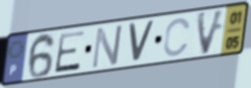6: (26, 31, 58, 80)
C: (162, 16, 193, 59)
E: (52, 28, 87, 75)
N: (89, 22, 125, 71)
V: (195, 8, 227, 58), (127, 19, 157, 64)
